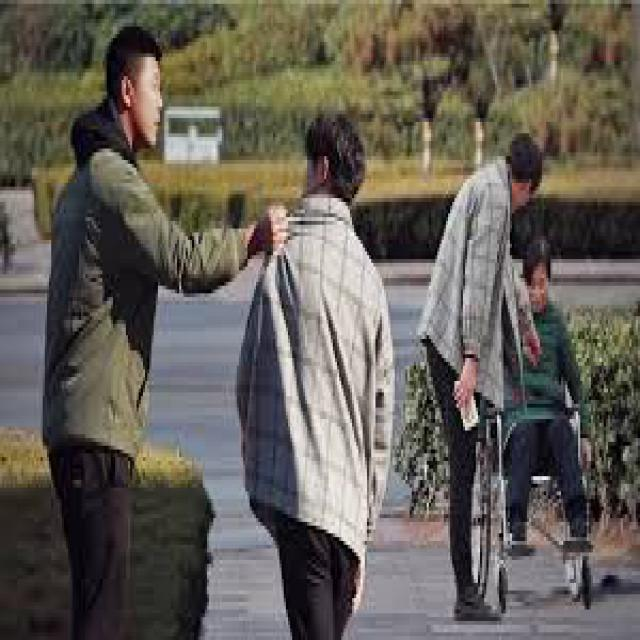wheelchairs: (458, 362, 612, 617)
